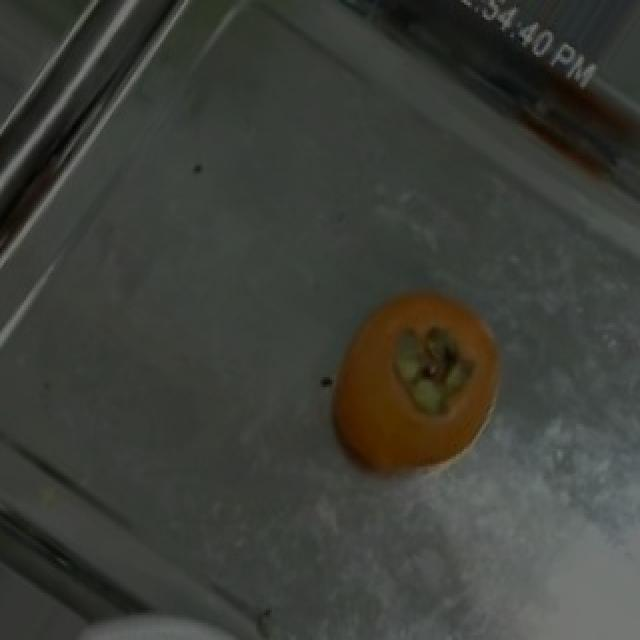Fruit: (306, 270, 526, 501)
